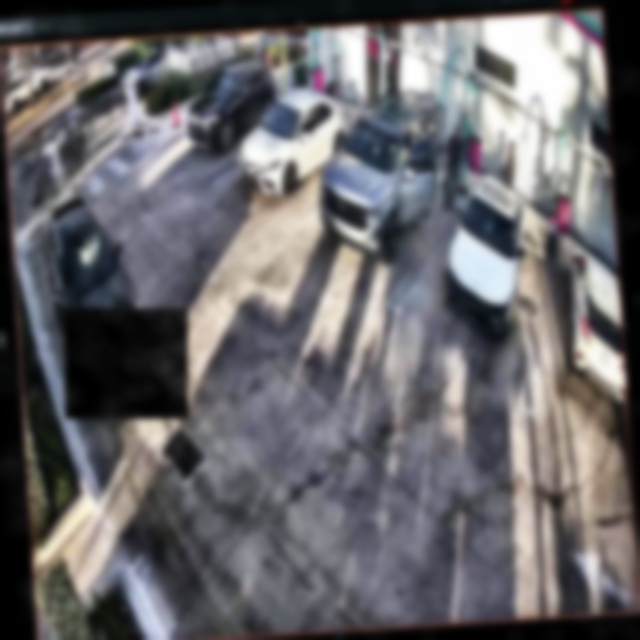Car: (313, 90, 447, 263), (441, 171, 532, 335), (235, 86, 352, 189), (183, 62, 276, 143)
